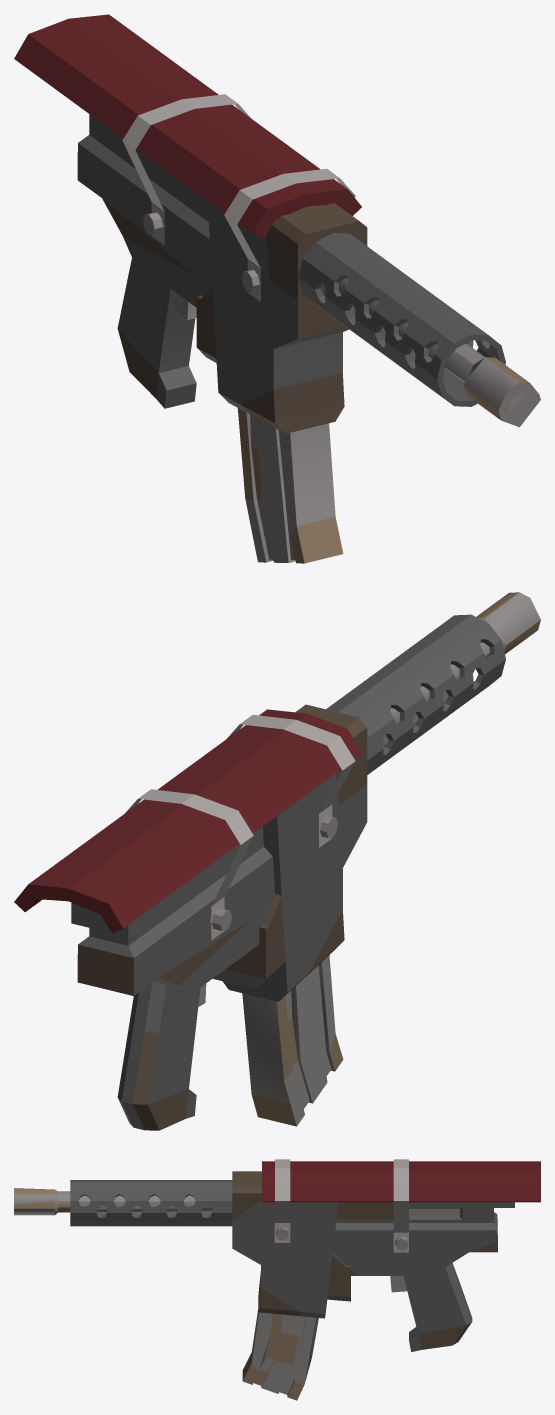
File: cc0-smg-lod1.glb
The picture shows the model from 3 angles, top to bottom: view 1: azimuth 30°, elevation 25°; view 2: azimuth 150°, elevation 25°; view 3: azimuth 270°, elevation 25°; orthographic projection. The views are drawn at different scales.
Parts seen in each view (by area): view 1: part_0; view 2: part_0; view 3: part_0.
Part boxes in pixels (bbox=[...]): part_0: bbox=[14, 14, 540, 563]; part_0: bbox=[14, 592, 540, 1130]; part_0: bbox=[14, 1159, 540, 1400].
Bounding box in the file's own units: 0.1507 × 0.4719 × 0.994.
1 material, 1 textured.
